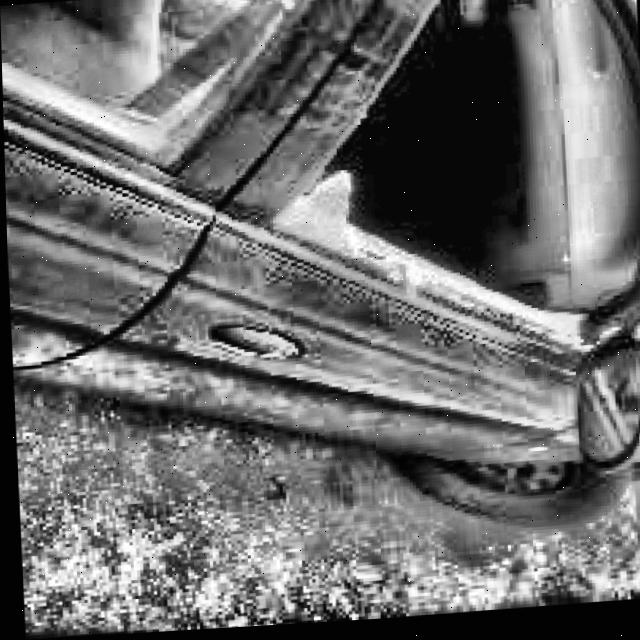glass_shatter: (333, 0, 640, 328)
